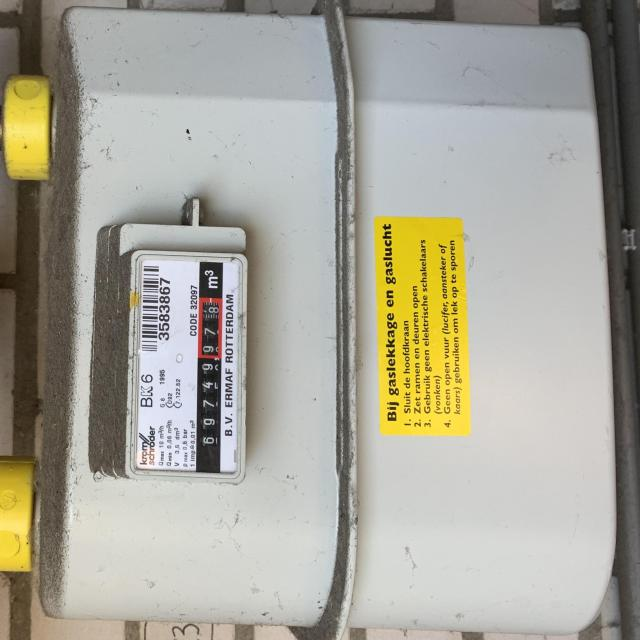gaz_meter: (140, 248, 240, 479)
indication: (195, 297, 223, 473)
